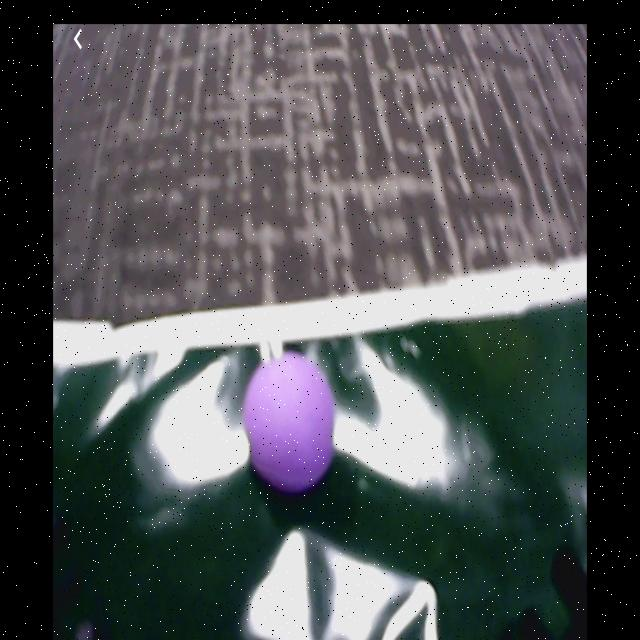ball: (245, 354, 337, 494)
